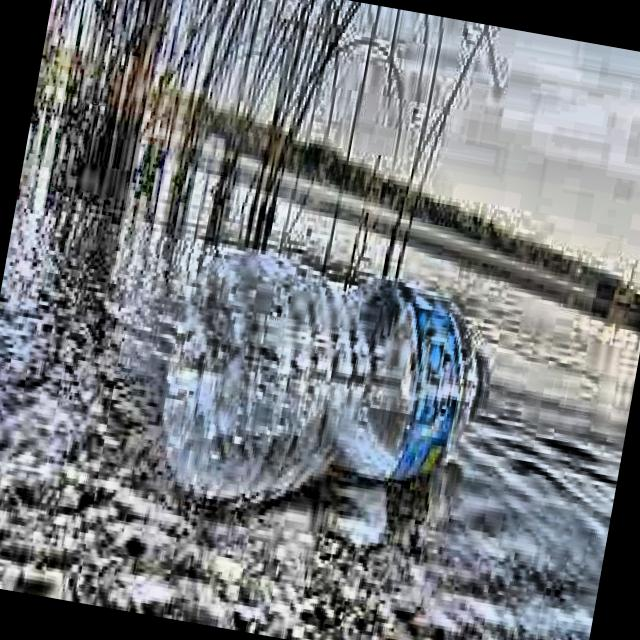plastic bottle: (162, 250, 491, 499)
